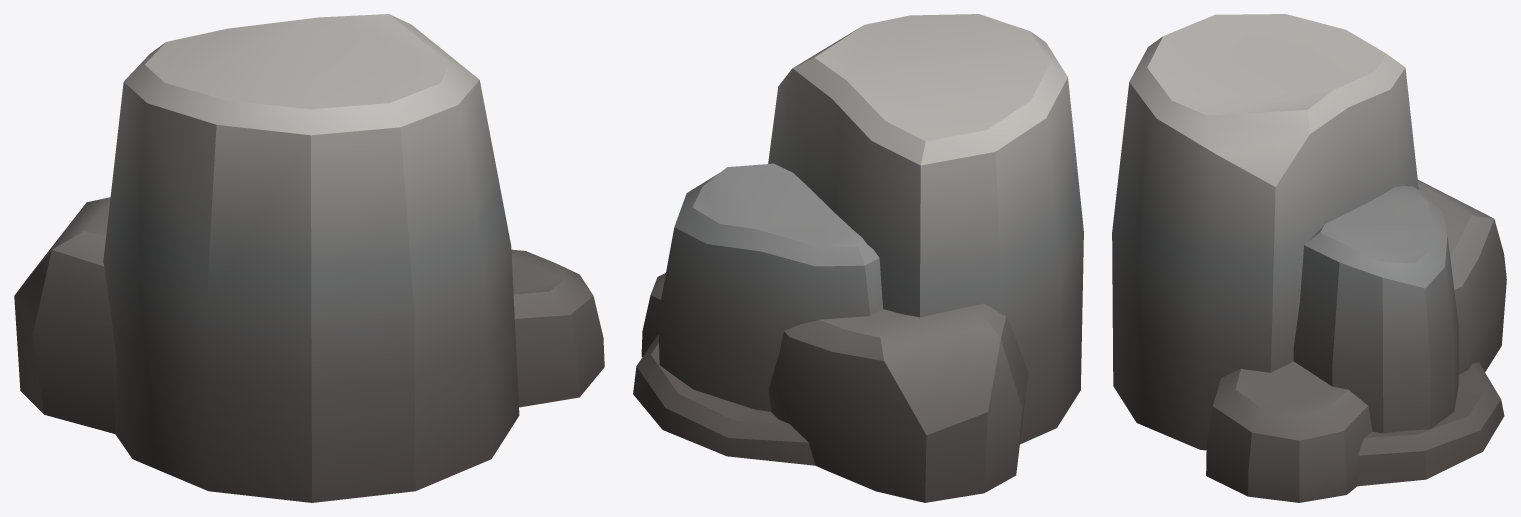
The model's file is StoneSource2.fbx.
3 views of the same model, side by side, from view 1: azimuth 30°, elevation 25°; view 2: azimuth 150°, elevation 25°; view 3: azimuth 270°, elevation 25° (orthographic). The views are drawn at different scales.
Parts seen in each view (by area): view 1: StoneSource2_LOD0; view 2: StoneSource2_LOD0; view 3: StoneSource2_LOD0.
Part boxes in pixels (bbox=[...]): StoneSource2_LOD0: bbox=[14, 14, 604, 502]; StoneSource2_LOD0: bbox=[633, 14, 1083, 502]; StoneSource2_LOD0: bbox=[1112, 14, 1506, 502].
Size of what is drawn, in the model's own units: 2.75 by 2.02 by 2.26.
